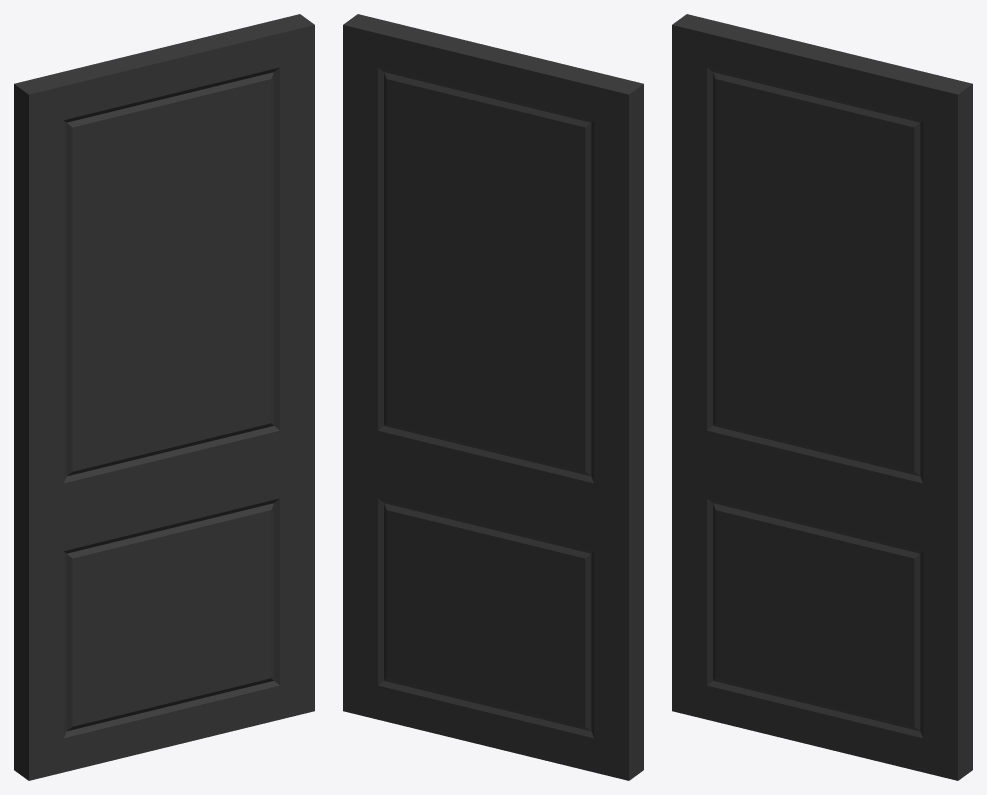
Rendered from Door2_C2.fbx.
3 renders of one model, left to right at view 1: azimuth 30°, elevation 25°; view 2: azimuth 150°, elevation 25°; view 3: azimuth 330°, elevation 25°, orthographic.
Parts seen in each view (by area): view 1: Door2_C2; view 2: Door2_C2; view 3: Door2_C2.
Boxes of the visible parts, <box> form: Door2_C2: <box>14,14,314,780</box>; Door2_C2: <box>343,14,643,780</box>; Door2_C2: <box>672,14,972,780</box>.
Size of the model in its own units: 89 by 204 by 8.
